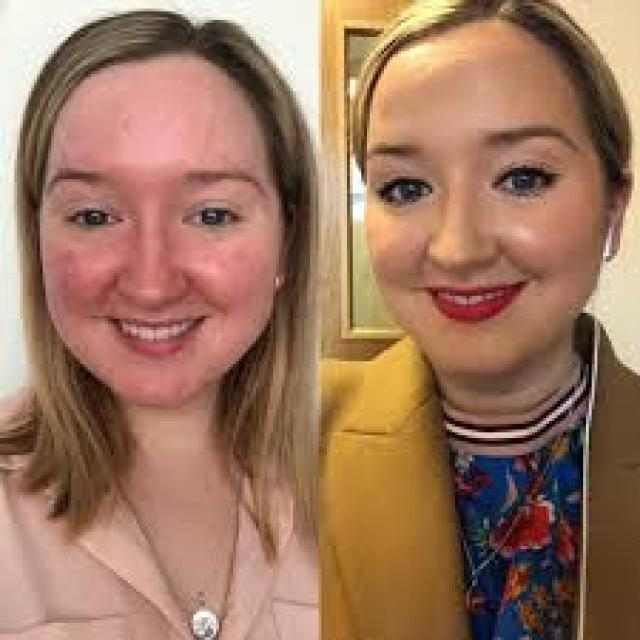Rosacea: (112, 154, 187, 306), (44, 235, 125, 326), (185, 238, 274, 318)
